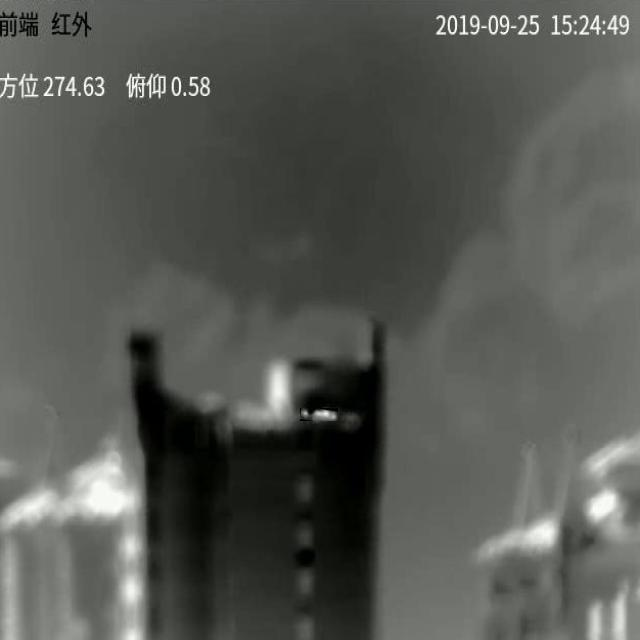drone: (301, 410, 338, 421)
